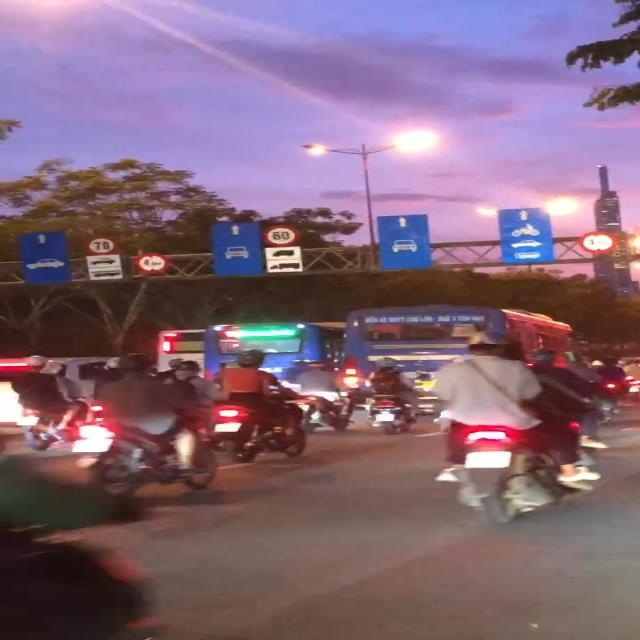Bien bao toc do toi da cho phep: (260, 223, 301, 247), (82, 234, 120, 258)
